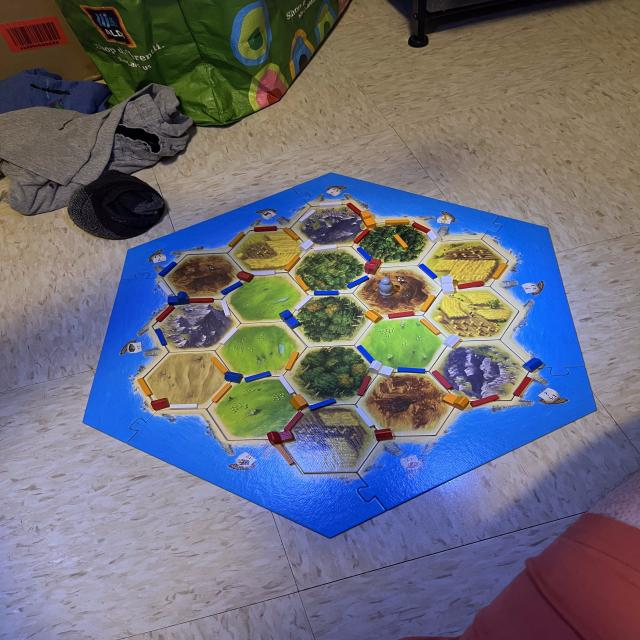blue-city: (278, 309, 300, 330), (166, 291, 191, 307)
blue-road: (357, 344, 374, 364), (310, 398, 336, 411), (243, 370, 271, 382), (419, 264, 437, 280), (221, 282, 242, 294), (347, 276, 368, 288), (160, 262, 178, 275), (396, 366, 425, 374), (155, 328, 167, 347), (357, 248, 372, 261), (314, 290, 341, 296)
blue-settlement: (522, 357, 543, 372), (224, 371, 243, 384)
orange-city: (440, 391, 471, 412), (360, 210, 376, 228)
orange-road: (275, 444, 296, 466), (209, 384, 232, 403), (419, 317, 441, 336), (209, 358, 229, 372), (284, 255, 300, 272), (392, 233, 408, 250), (420, 294, 435, 312), (294, 276, 310, 292), (229, 232, 245, 248), (283, 227, 300, 242), (286, 350, 298, 371), (139, 377, 152, 396), (493, 262, 506, 279), (384, 219, 408, 225)
orange-settlement: (289, 394, 308, 410), (365, 308, 383, 324)
red-city: (268, 430, 294, 445), (364, 258, 382, 274)
red-road: (432, 370, 453, 390), (284, 412, 306, 431), (469, 394, 502, 406), (514, 377, 530, 397), (155, 306, 175, 322), (458, 280, 484, 290), (253, 224, 280, 233), (354, 229, 370, 243), (411, 222, 430, 233), (346, 202, 362, 215), (389, 310, 414, 318), (360, 376, 369, 396), (190, 298, 213, 302)
red-settlement: (373, 427, 394, 441), (150, 397, 170, 411), (236, 269, 255, 283)
white-city: (369, 360, 395, 379), (439, 276, 455, 294)
white-road: (354, 406, 374, 428), (277, 376, 295, 395), (220, 328, 240, 343), (294, 296, 314, 310), (297, 210, 318, 223), (158, 282, 173, 298), (319, 200, 343, 209), (313, 245, 338, 253), (220, 300, 230, 317), (169, 404, 198, 409), (250, 271, 278, 276)
white-settlement: (441, 334, 462, 348), (427, 228, 442, 245), (300, 238, 314, 252)
